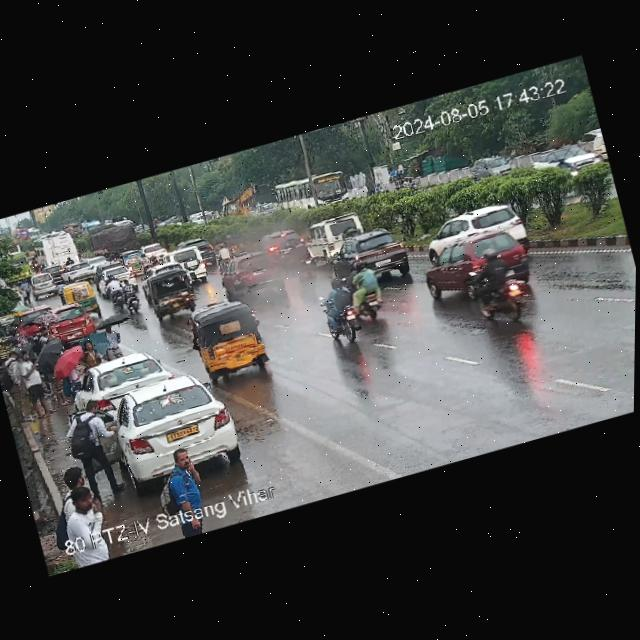bus: (273, 162, 363, 218), (0, 249, 33, 282)
car: (79, 362, 243, 495), (416, 219, 544, 302), (180, 292, 276, 386), (71, 344, 179, 410), (325, 222, 411, 286), (426, 196, 527, 249), (511, 135, 604, 184), (212, 245, 283, 304), (303, 211, 372, 267), (139, 264, 205, 321), (148, 244, 216, 293), (40, 299, 100, 345), (57, 275, 105, 321), (467, 148, 515, 182), (264, 222, 303, 257), (187, 233, 218, 269), (13, 302, 46, 335), (28, 269, 63, 300), (59, 260, 99, 286), (124, 250, 149, 275), (140, 239, 168, 261), (211, 208, 220, 218)
motorcycle: (462, 243, 527, 327), (313, 272, 365, 348), (340, 258, 390, 324), (287, 230, 319, 284), (103, 273, 131, 310), (119, 276, 142, 314), (213, 242, 234, 273), (552, 153, 578, 178), (223, 230, 240, 256), (402, 173, 419, 190), (138, 250, 151, 272), (30, 255, 42, 273), (212, 234, 225, 250), (372, 181, 388, 194), (573, 139, 588, 150), (149, 254, 161, 267), (64, 255, 75, 264), (48, 259, 56, 267)
person: (63, 398, 128, 505), (149, 444, 214, 517), (15, 346, 55, 420), (0, 350, 34, 422), (61, 483, 106, 531), (93, 322, 127, 363), (46, 364, 71, 409), (56, 462, 89, 489), (77, 336, 103, 370), (66, 363, 86, 396), (9, 326, 27, 347), (34, 324, 52, 341)
truck: (25, 228, 82, 276), (88, 217, 150, 260), (219, 183, 264, 225), (187, 207, 215, 226)
